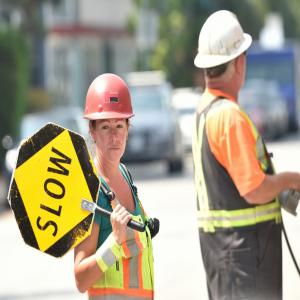red: (84, 74, 134, 163)
white: (197, 10, 252, 97)
